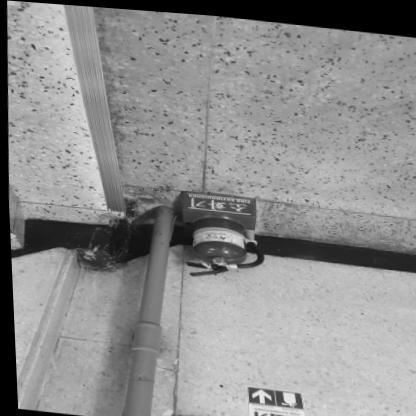FE: (175, 187, 265, 281)
